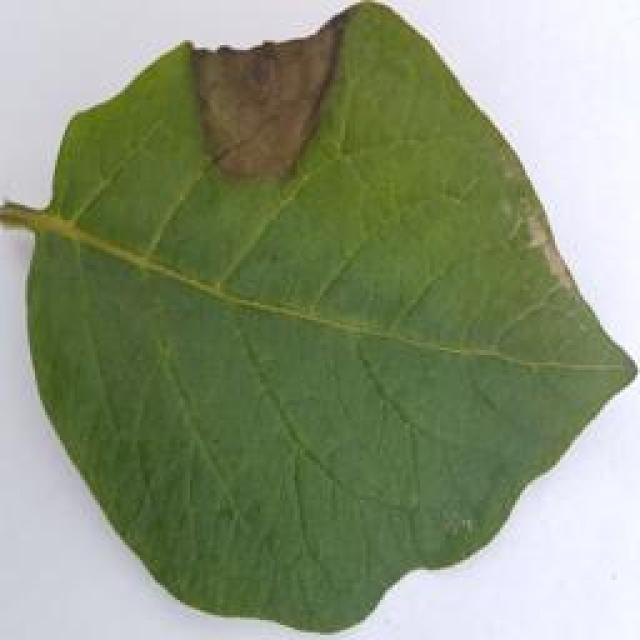Potato_Late_Blight: (17, 17, 600, 638)
